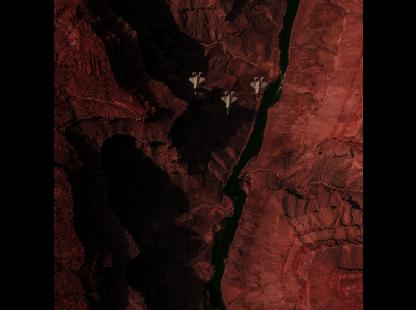F22: (248, 76, 266, 100), (188, 71, 204, 95), (220, 90, 236, 114)
